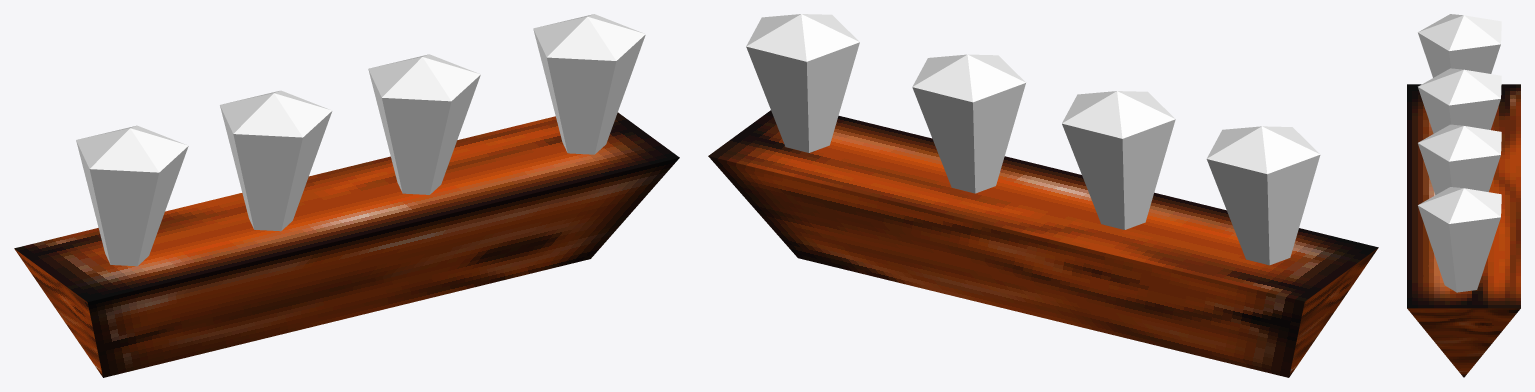
File: Kabel_LichtmastQuerbalken_1538.glb
3 renders of one model, left to right at view 1: azimuth 30°, elevation 25°; view 2: azimuth 150°, elevation 25°; view 3: azimuth 270°, elevation 25°, orthographic. The views are drawn at different scales.
Visible parts, largest first — view 1: pCylinderShape41, pSphereShape15, pSphereShape16, pSphereShape13, pSphereShape14; view 2: pCylinderShape41, pSphereShape13, pSphereShape16, pSphereShape15, pSphereShape14; view 3: pCylinderShape41, pSphereShape16, pSphereShape15, pSphereShape14, pSphereShape13.
Boxes of the visible parts, x1=… form: pCylinderShape41: x1=14, y1=112, x2=679, y2=377; pSphereShape15: x1=368, y1=54, x2=480, y2=194; pSphereShape16: x1=533, y1=14, x2=645, y2=154; pSphereShape13: x1=76, y1=125, x2=188, y2=266; pSphereShape14: x1=220, y1=90, x2=332, y2=231; pCylinderShape41: x1=708, y1=110, x2=1378, y2=377; pSphereShape13: x1=1206, y1=126, x2=1320, y2=265; pSphereShape16: x1=746, y1=14, x2=859, y2=152; pSphereShape15: x1=912, y1=54, x2=1025, y2=193; pSphereShape14: x1=1062, y1=91, x2=1175, y2=229; pCylinderShape41: x1=1407, y1=84, x2=1520, y2=377; pSphereShape16: x1=1418, y1=187, x2=1501, y2=292; pSphereShape15: x1=1418, y1=124, x2=1501, y2=194; pSphereShape14: x1=1418, y1=68, x2=1501, y2=133; pSphereShape13: x1=1418, y1=14, x2=1501, y2=77.
Bounding box in the file's own units: 0.1601 × 0.0628 × 0.0344.
5 materials, 1 textured.
